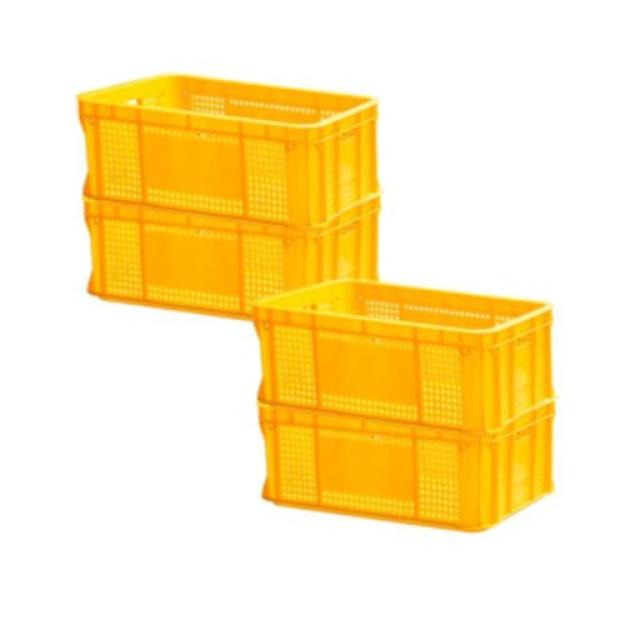basket: (79, 75, 378, 318), (242, 267, 567, 440), (260, 404, 554, 531)
